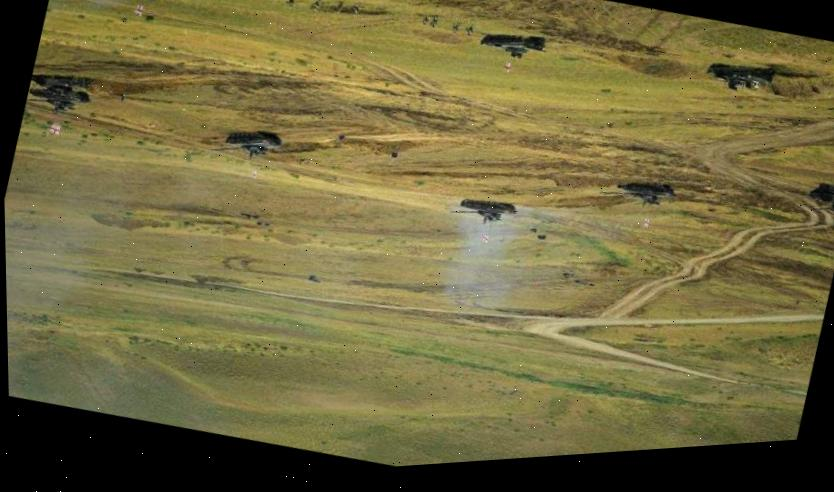armored_car: (803, 173, 834, 216)
tank: (203, 113, 287, 173), (473, 22, 548, 84), (699, 46, 779, 104), (595, 166, 678, 217), (23, 74, 95, 124), (444, 186, 519, 232), (112, 0, 177, 8)
